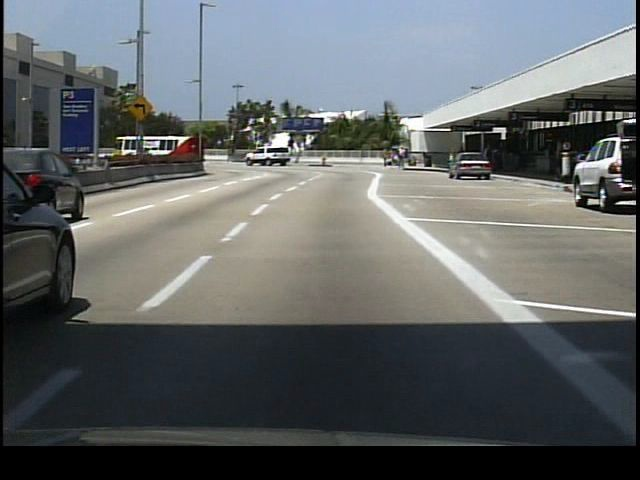person: (483, 149, 499, 181), (397, 144, 407, 173), (381, 147, 389, 171)
